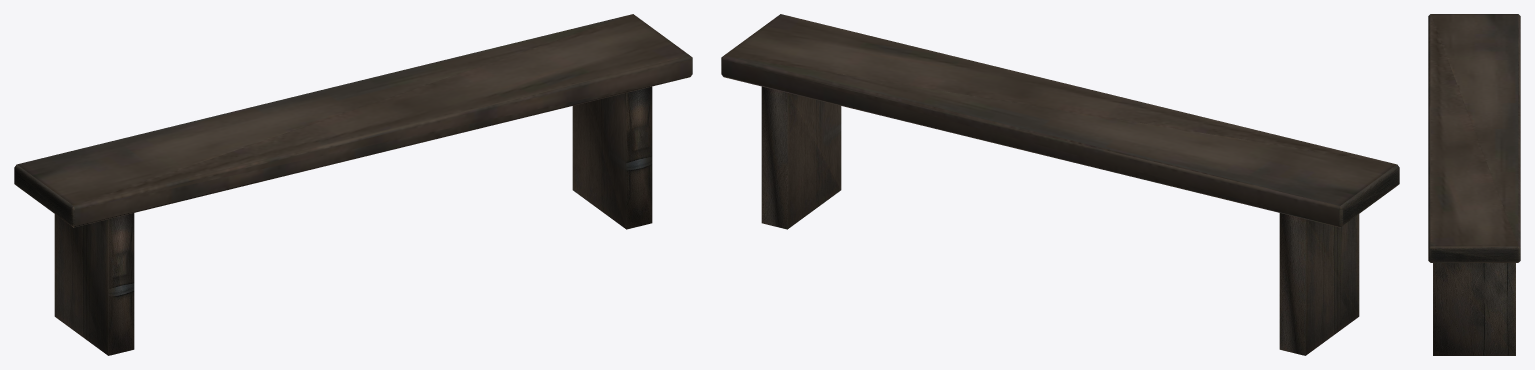
Rendered from bench_long.glb.
The picture shows the model from 3 angles, left to right: view 1: azimuth 30°, elevation 25°; view 2: azimuth 150°, elevation 25°; view 3: azimuth 270°, elevation 25°; orthographic projection. The views are drawn at different scales.
Visible parts, largest first — view 1: bench_long; view 2: bench_long; view 3: bench_long.
Boxes of the visible parts, x1,y1,x2,y2 form: bench_long: (14, 14, 692, 355); bench_long: (721, 14, 1399, 355); bench_long: (1428, 14, 1520, 355).
Size of the model in its own units: 2.4 by 0.59 by 0.4.
Materials: 1 (1 with a texture image).
